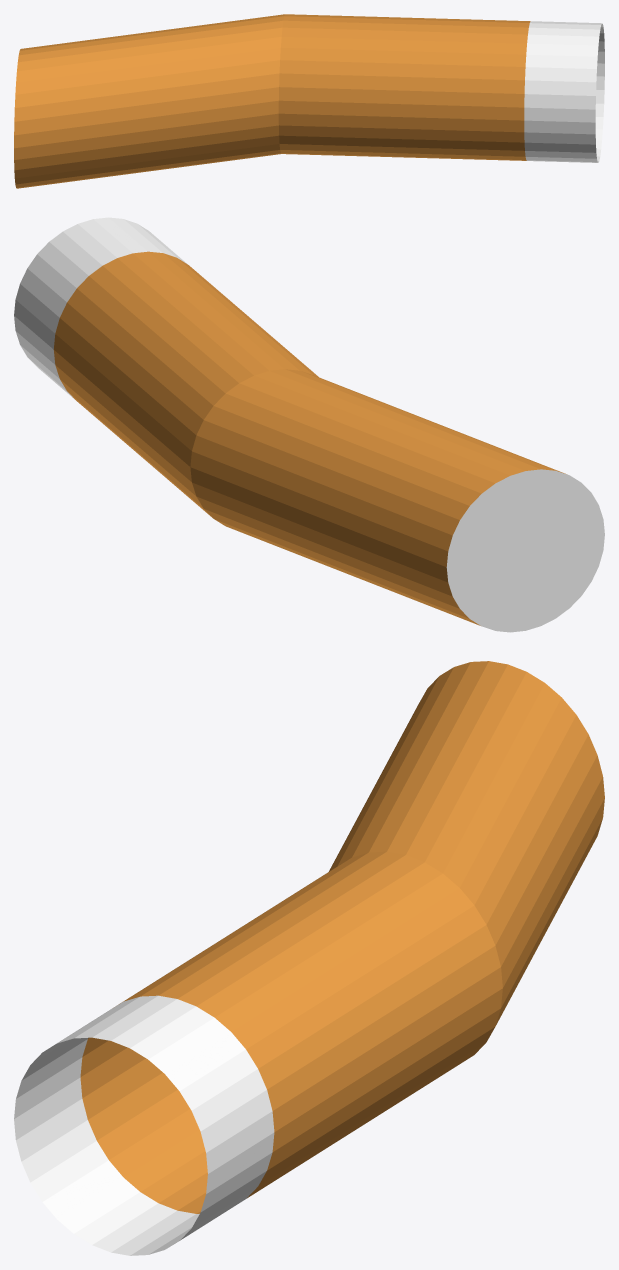
Rendered from бычок2.fbx.
3 renders of one model, top to bottom at view 1: azimuth 30°, elevation 25°; view 2: azimuth 150°, elevation 25°; view 3: azimuth 270°, elevation 25°, orthographic. The views are drawn at different scales.
Parts seen in each view (by area): view 1: Цилиндр.110; view 2: Цилиндр.110; view 3: Цилиндр.110.
Part boxes in pixels (bbox=[...]): Цилиндр.110: bbox=[14, 14, 604, 188]; Цилиндр.110: bbox=[14, 217, 604, 632]; Цилиндр.110: bbox=[14, 661, 604, 1255].
Size of the model in its own units: 40.69 by 9.31 by 23.55.
